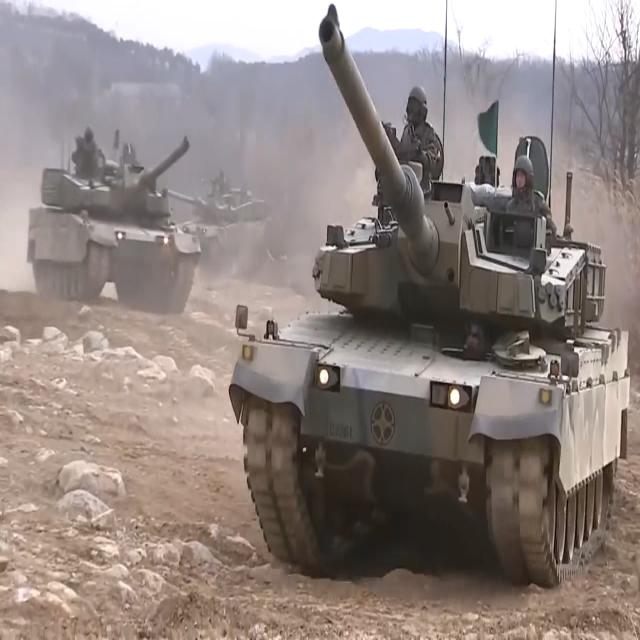korea tank: (226, 1, 632, 592)
